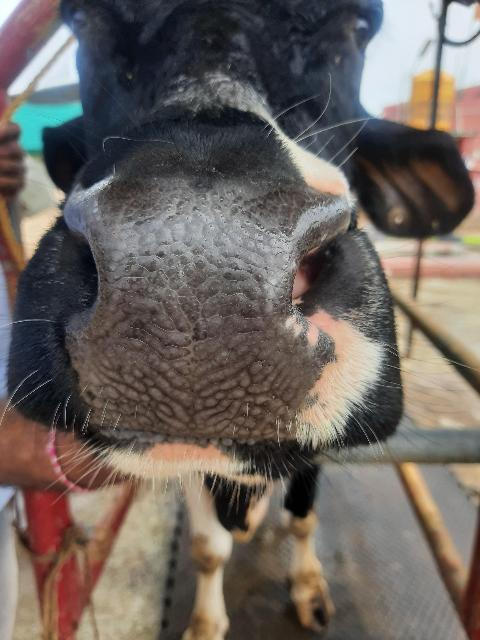Muzzle: (77, 198, 310, 444)
